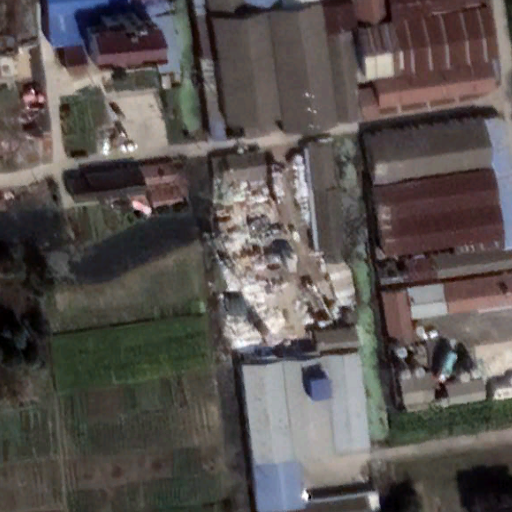msw: (214, 181, 293, 352)
